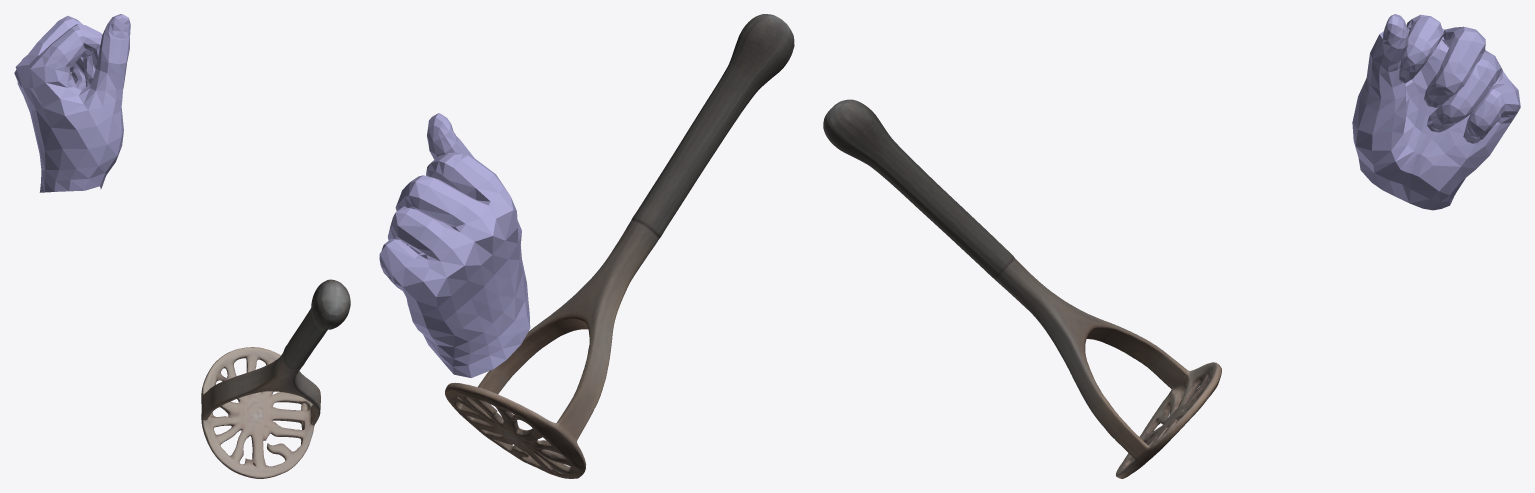
File: frame_0044_source_000044_hand_object.glb
3 renders of one model, left to right at view 1: azimuth 30°, elevation 25°; view 2: azimuth 150°, elevation 25°; view 3: azimuth 270°, elevation 25°, orthographic. The views are drawn at different scales.
Visible parts, largest first — view 1: world; view 2: world; view 3: world.
Part boxes in pixels (box(x1,y1,x2,y2)): world: box(14, 14, 350, 478); world: box(379, 14, 794, 478); world: box(823, 14, 1520, 478).
Size of the model in its own units: 0.1175 by 0.262 by 0.3759.
